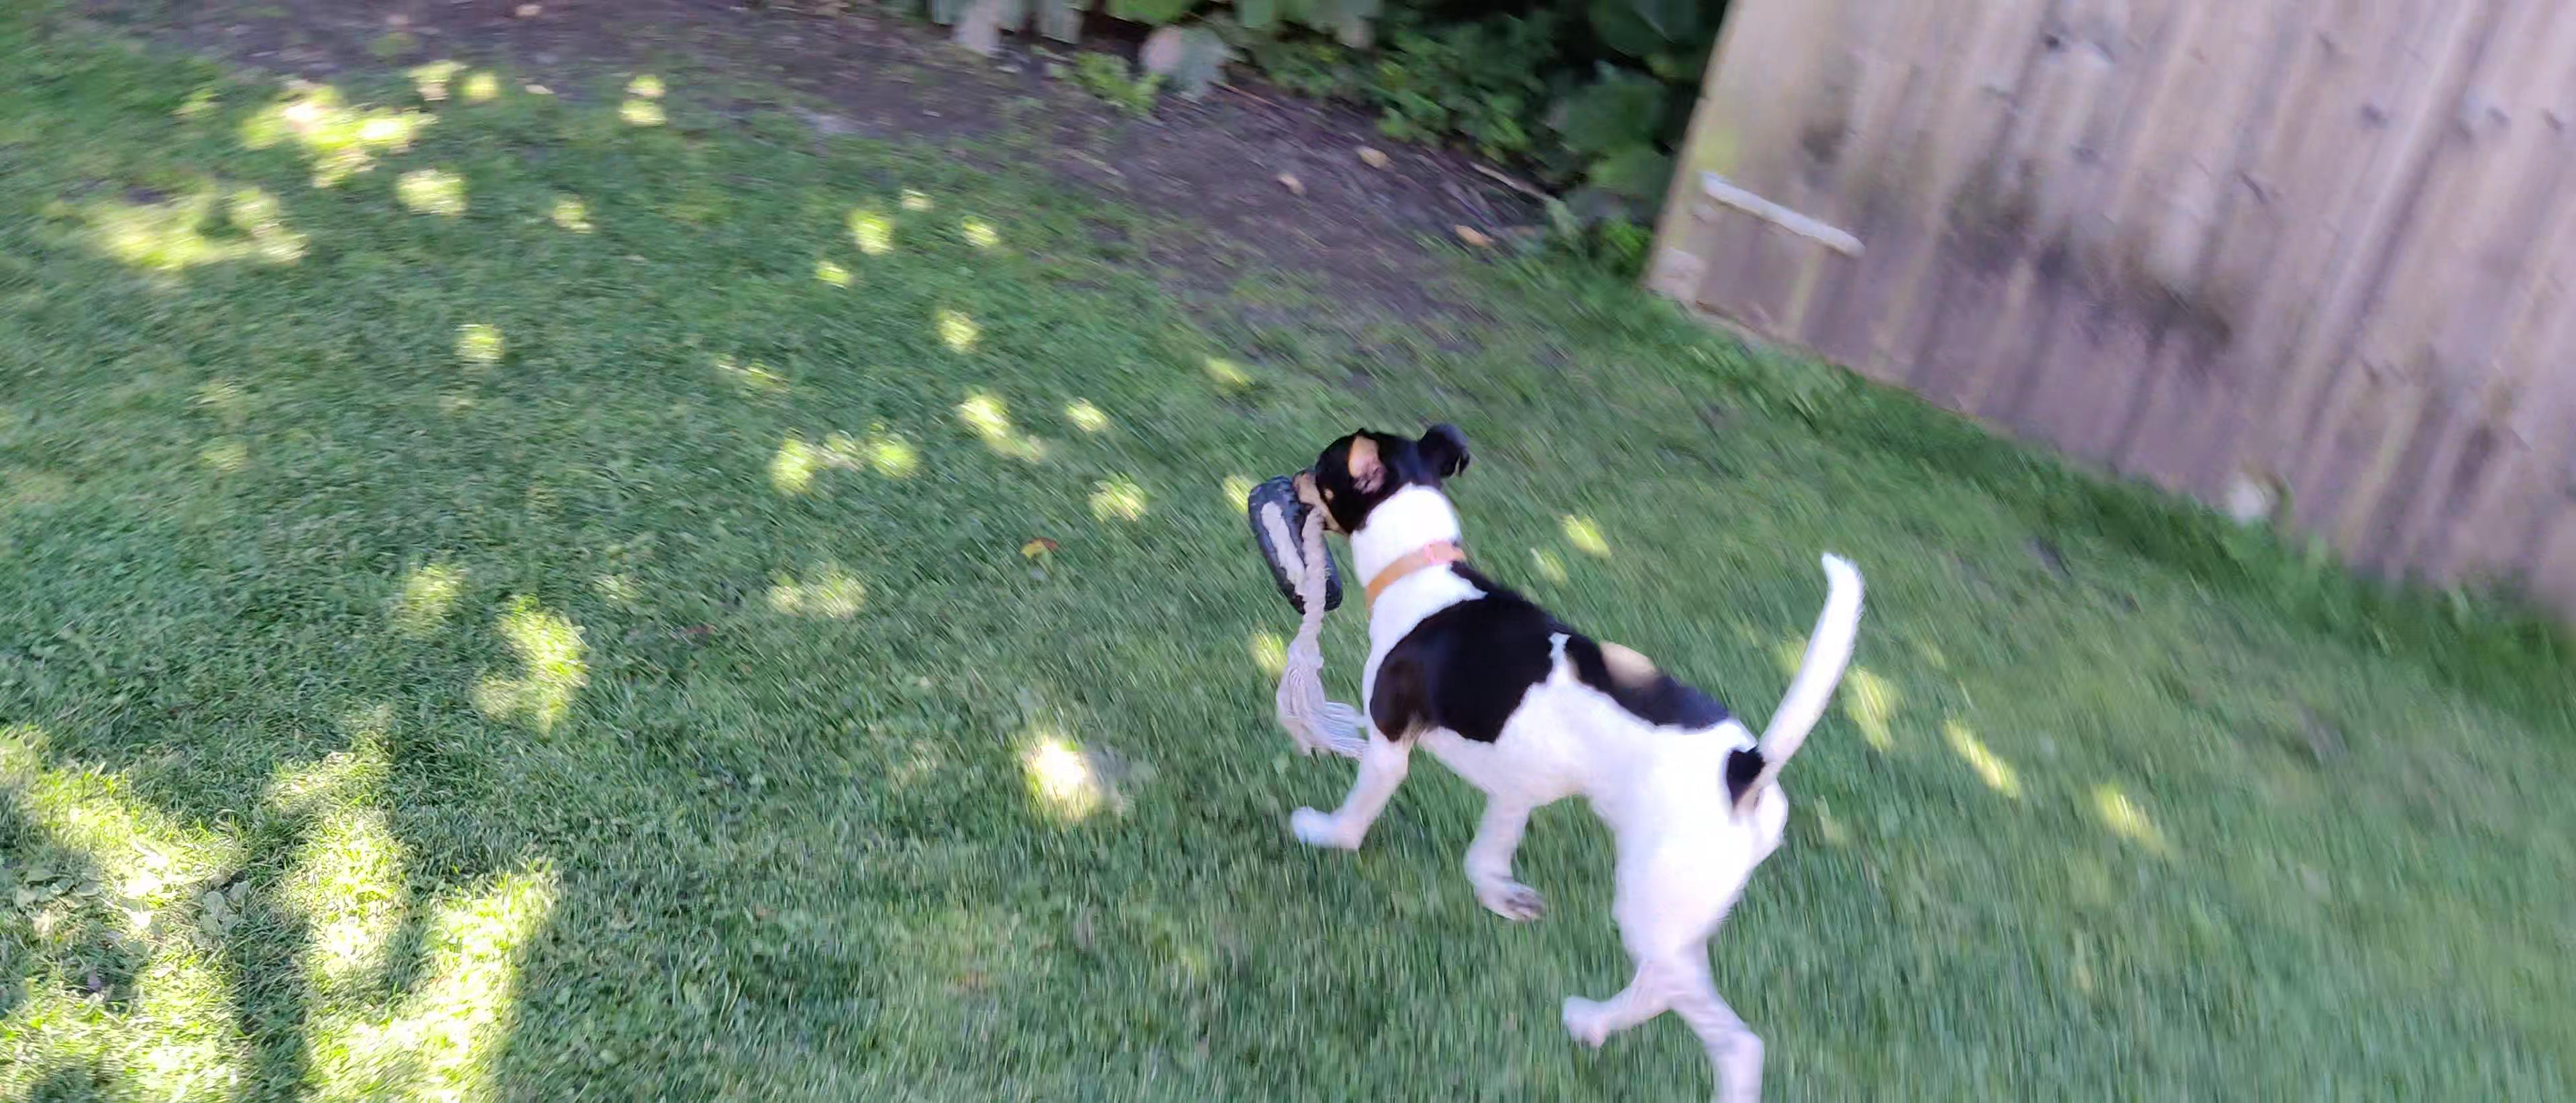Dog: (1270, 419, 1870, 1103)
